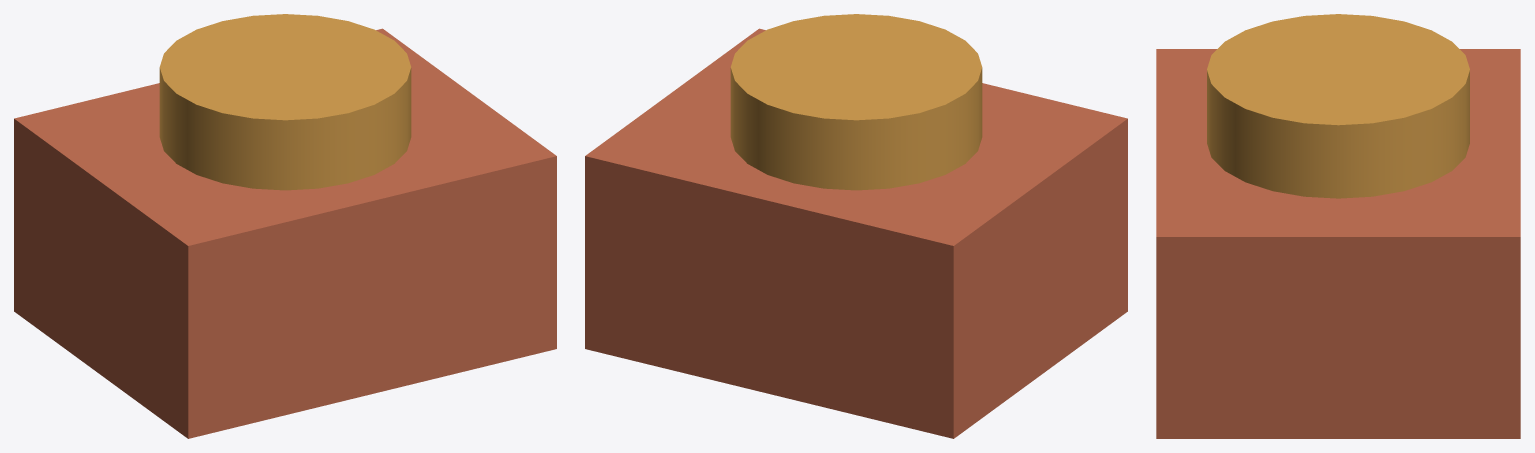
The model's file is sliding_block_cad.glb.
The picture shows the model from 3 angles, left to right: view 1: azimuth 30°, elevation 25°; view 2: azimuth 150°, elevation 25°; view 3: azimuth 270°, elevation 25°; orthographic projection. The views are drawn at different scales.
Parts seen in each view (by area): view 1: Block_Sled, Brass_Mass_Stack; view 2: Block_Sled, Brass_Mass_Stack; view 3: Block_Sled, Brass_Mass_Stack.
Boxes of the visible parts, x1=… form: Block_Sled: x1=14, y1=28, x2=556, y2=438; Brass_Mass_Stack: x1=159, y1=14, x2=411, y2=190; Block_Sled: x1=585, y1=28, x2=1127, y2=438; Brass_Mass_Stack: x1=730, y1=14, x2=982, y2=190; Block_Sled: x1=1156, y1=49, x2=1520, y2=438; Brass_Mass_Stack: x1=1207, y1=14, x2=1469, y2=198.
Size of the model in its own units: 0.44 by 0.3 by 0.36.
